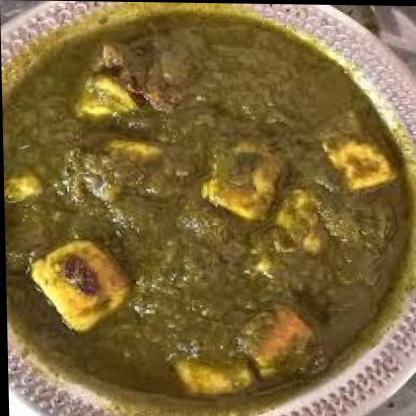palak_paneer: (0, 7, 413, 402)
